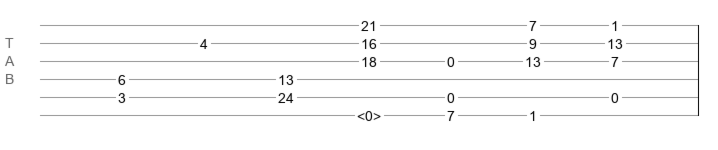0: (447, 90, 455, 100), (447, 54, 455, 64), (611, 90, 619, 100)
1: (529, 108, 537, 118), (611, 18, 619, 28)
13: (278, 72, 294, 82), (525, 54, 541, 64), (607, 36, 623, 46)
16: (361, 36, 377, 46)
18: (361, 54, 377, 64)
21: (361, 18, 377, 28)
24: (278, 90, 294, 100)
3: (118, 90, 126, 100)
4: (200, 36, 208, 46)
6: (118, 72, 126, 82)
7: (447, 108, 455, 118), (529, 18, 537, 28), (611, 54, 619, 64)
9: (529, 36, 537, 46)
harmonic: (357, 108, 381, 118)
